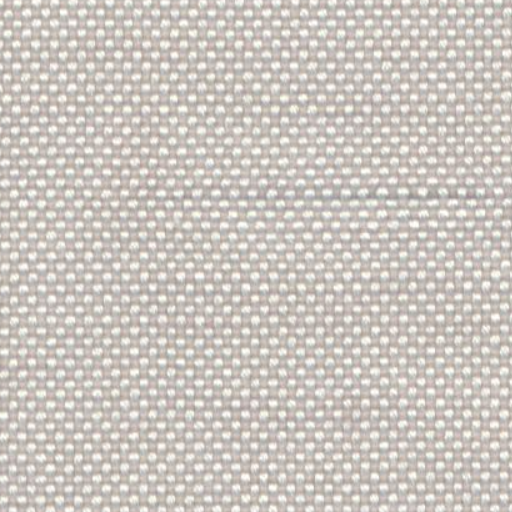WuZi: (208, 180, 484, 207)
